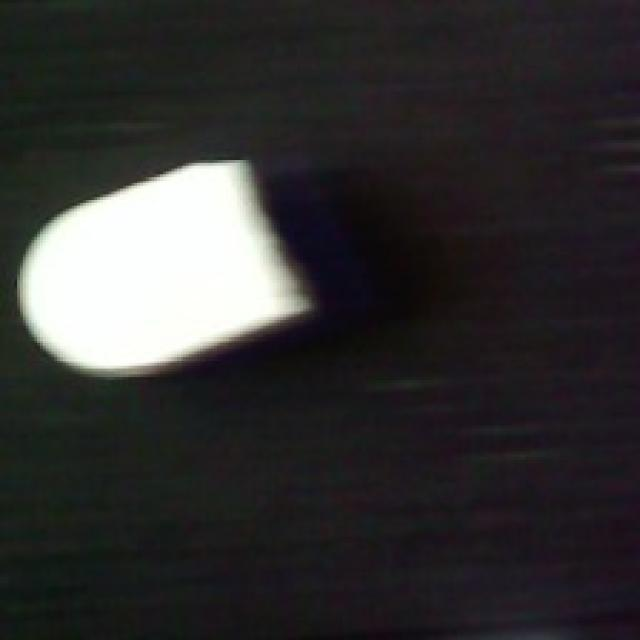defected: (12, 160, 317, 383)
